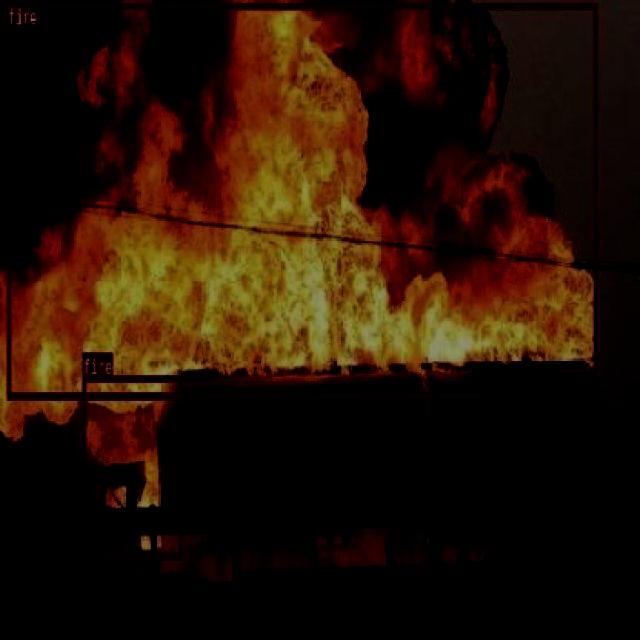fire: (6, 1, 597, 398), (82, 374, 182, 558)
